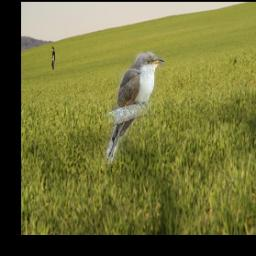Cuckoo: (104, 51, 164, 164)
